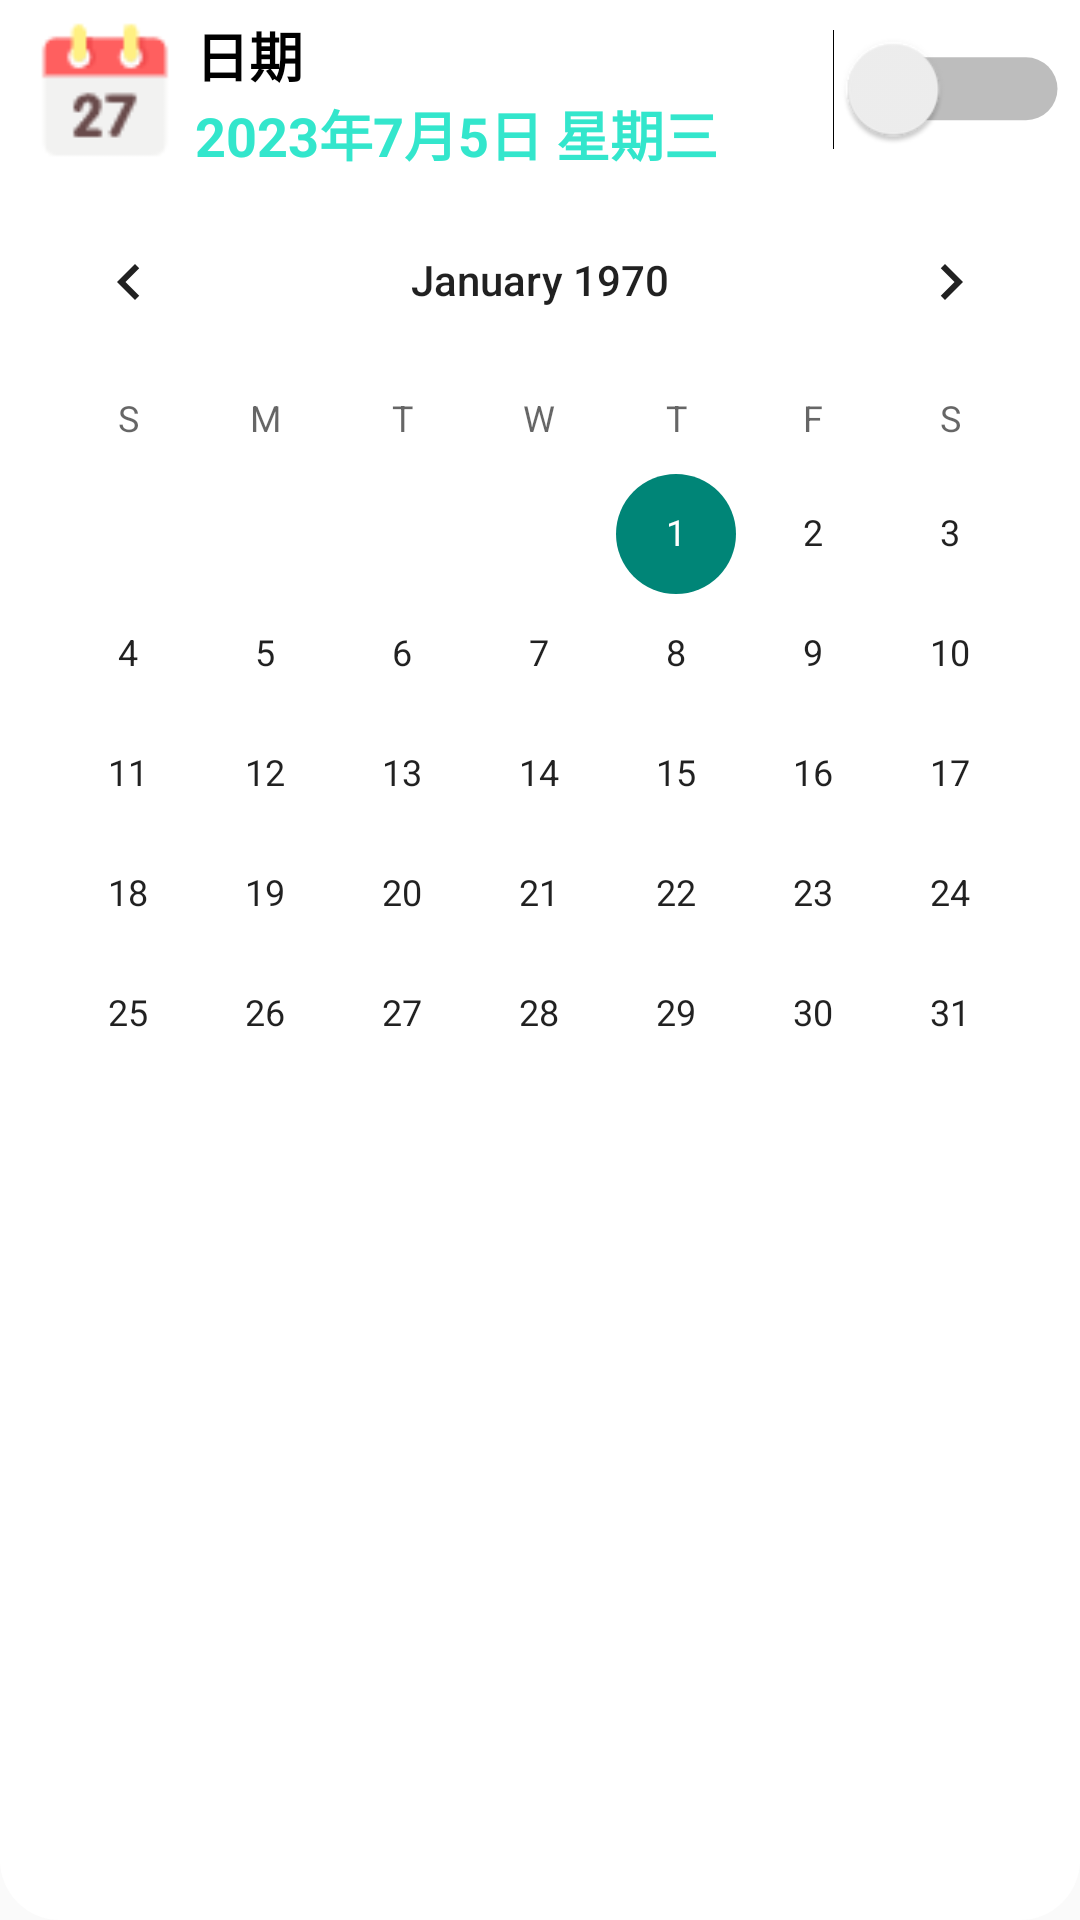

Screen size 1080w x 1920h. Icon name, then its box in pixels as (x1, y1, x2, y2):
date: (42, 23, 168, 138)
